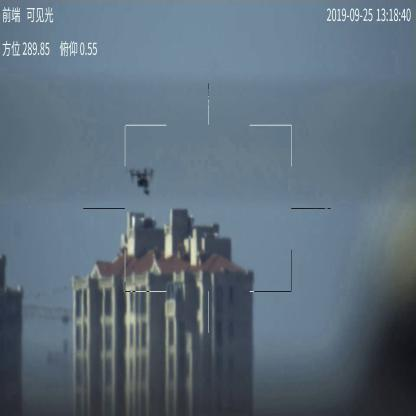uav: (128, 167, 156, 196)
